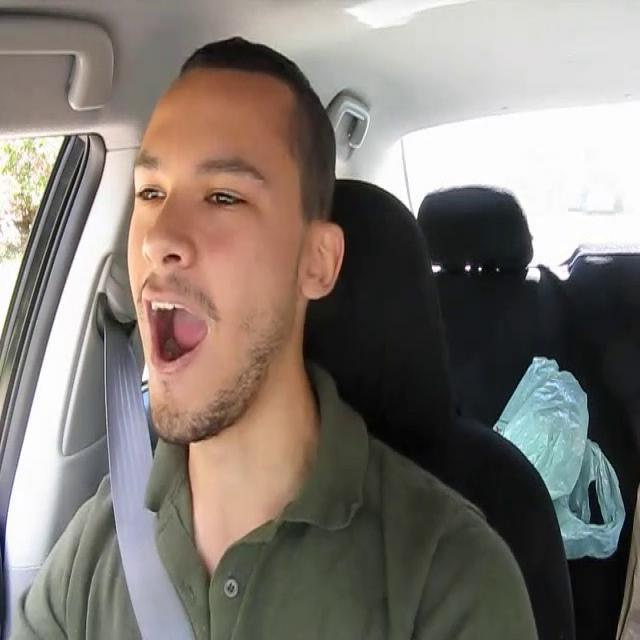open: (198, 154, 269, 223), (130, 145, 170, 221)
